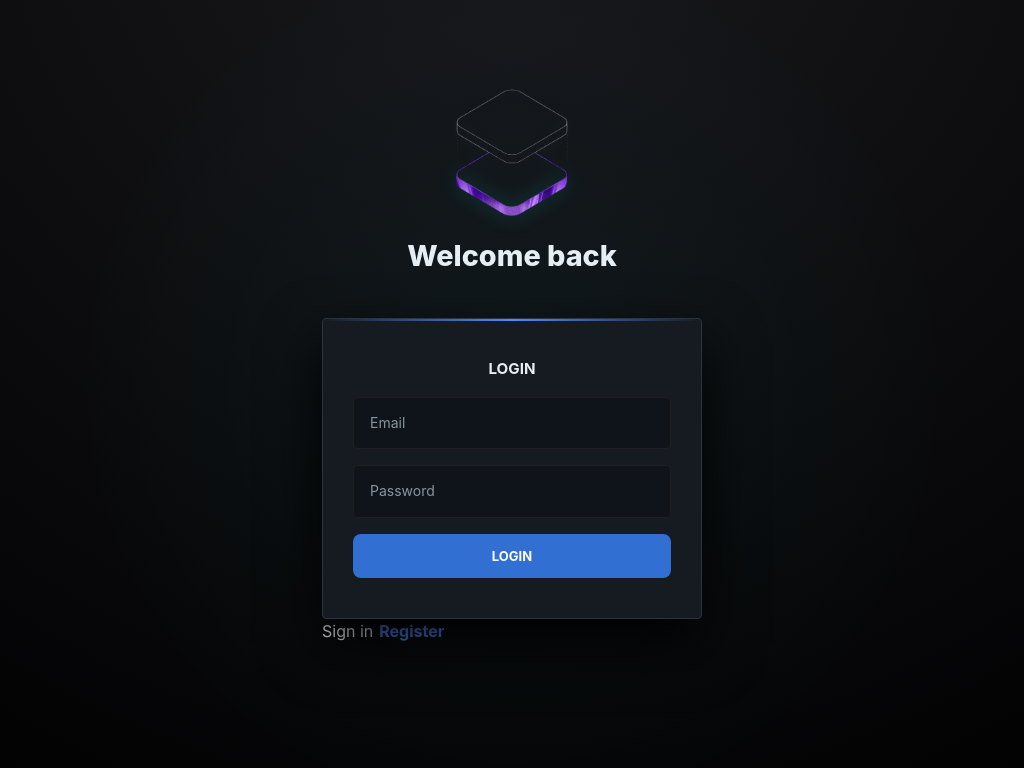
Test: Authentication Flow › should show an error for a pending account
Step 1. Type "pending@example.com" into the field with placeholder "Email" → (512, 423), box [353,397,671,449]
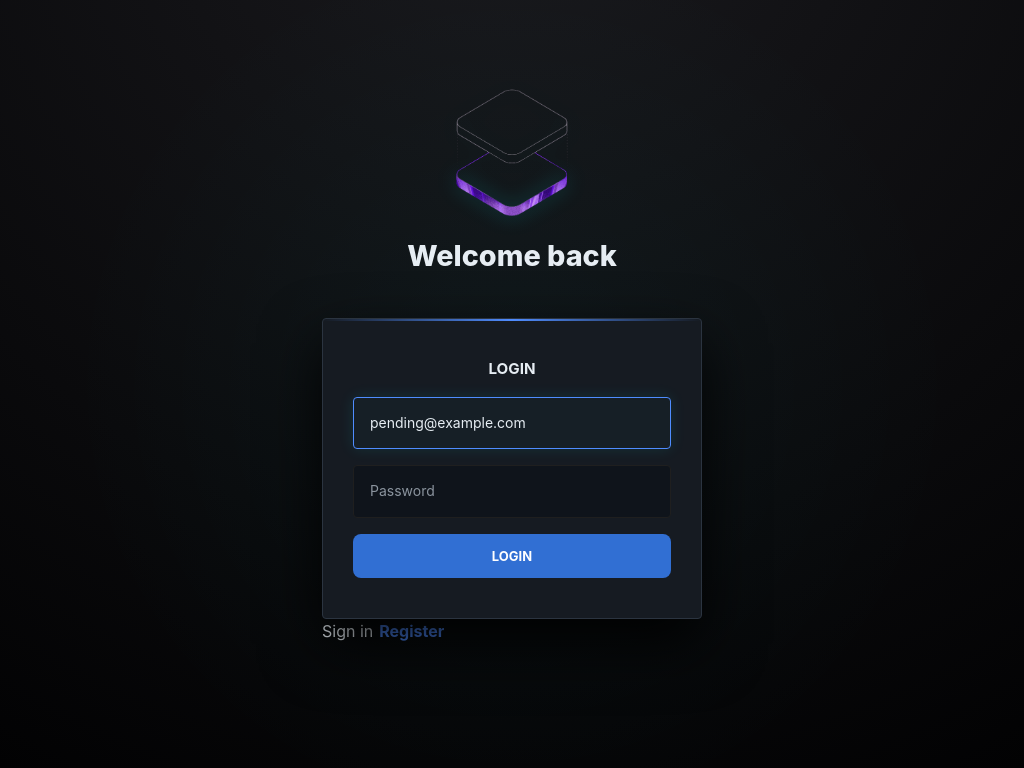
Step 2. Type "123" into the password field with placeholder "Password" → (512, 491), box [353,465,671,517]
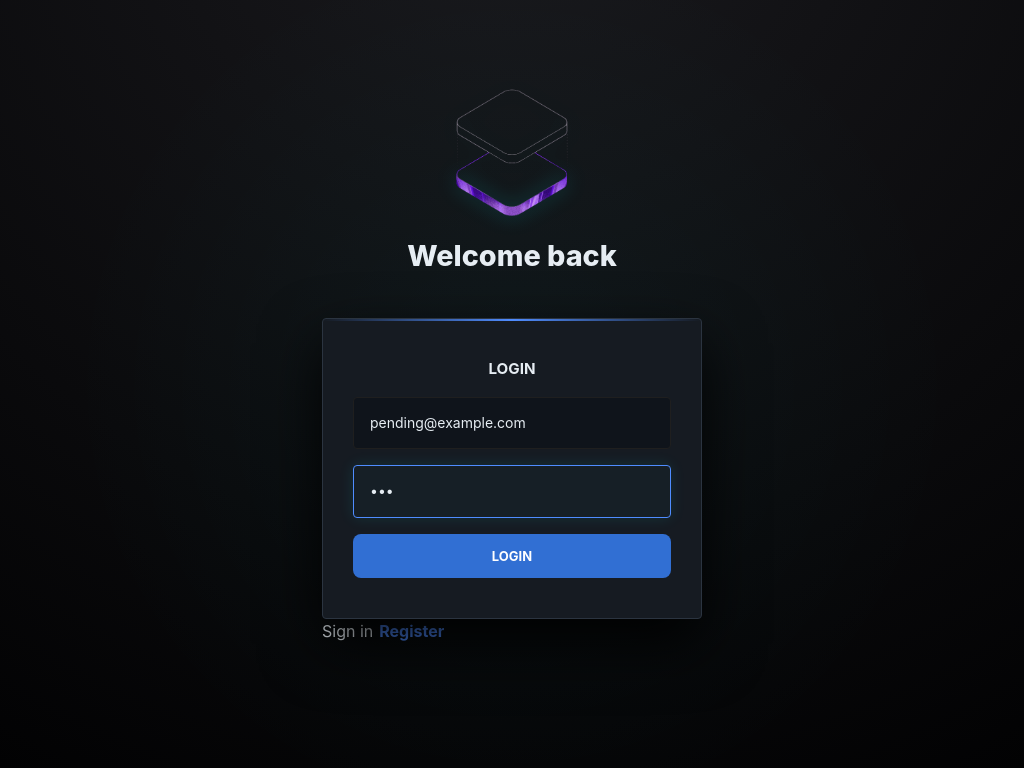
Step 3. Click the submit button → (512, 557), box [353,534,671,579]
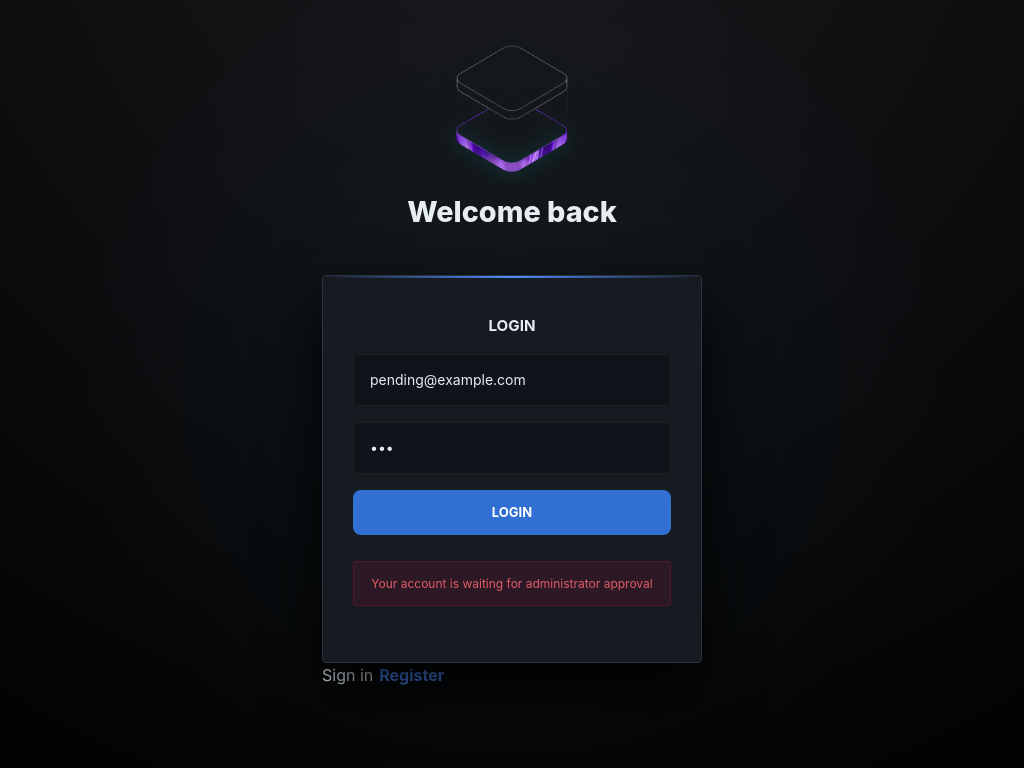
Check: the text "Your account is waiting for administrator approval" is shown, box [353,561,671,606]
